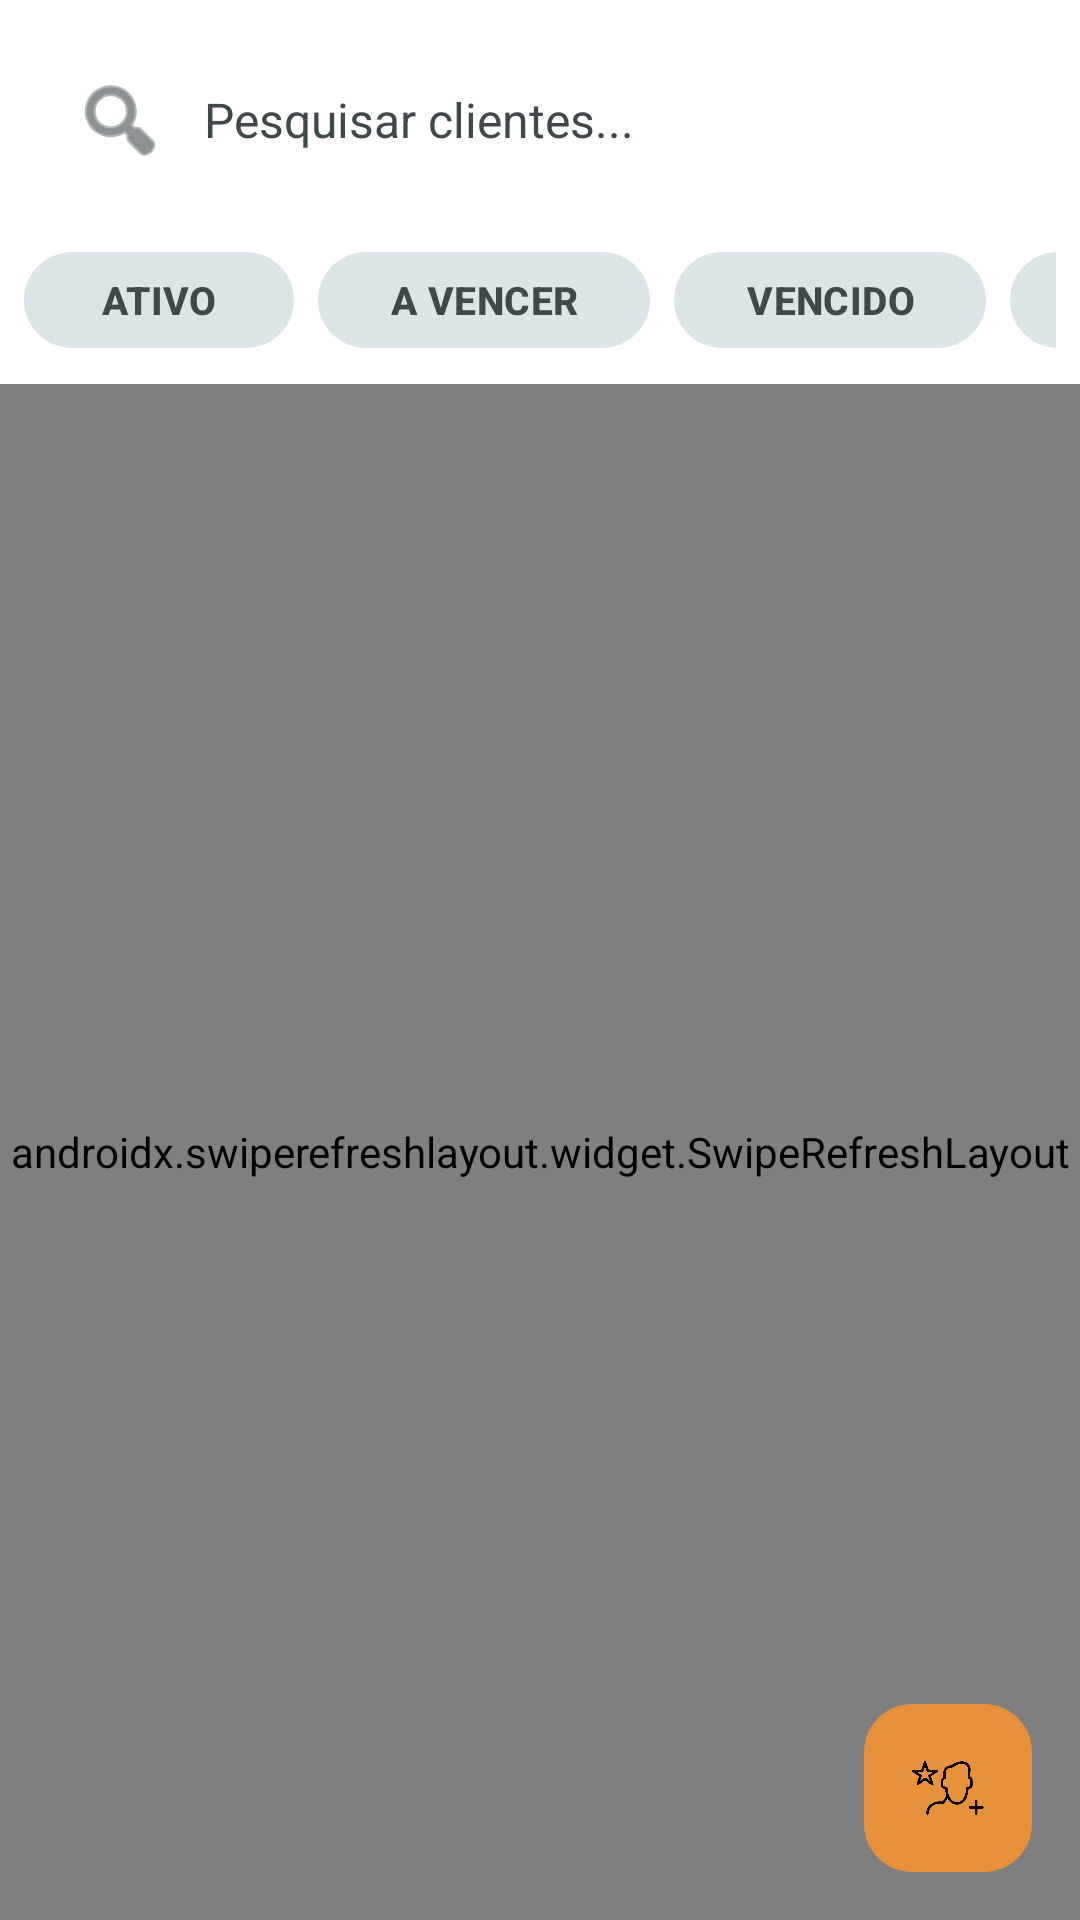

Where to tap for icons on this 1080*1920 app screen, as (x=x, y=y):
adduser: (x=948, y=1788)
